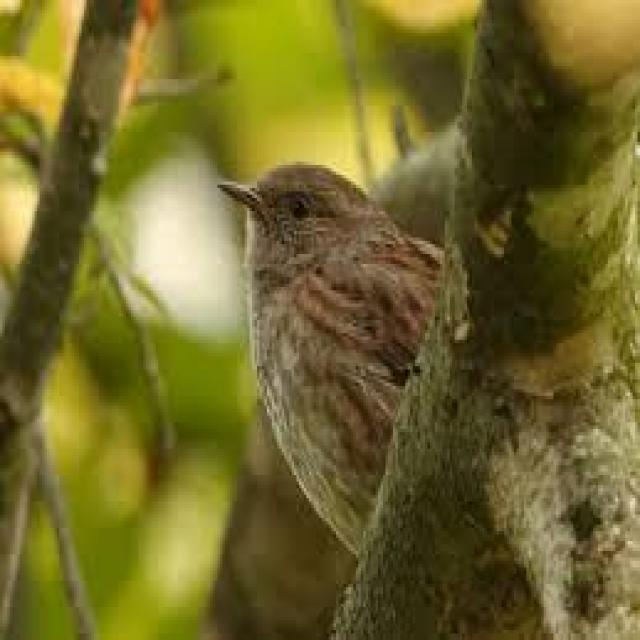bird: (204, 148, 456, 558)
